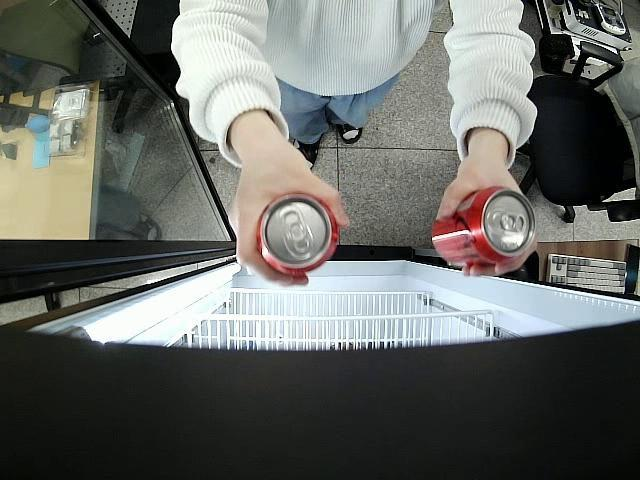11_cocaColaZero: (430, 186, 538, 264), (254, 190, 339, 276)
